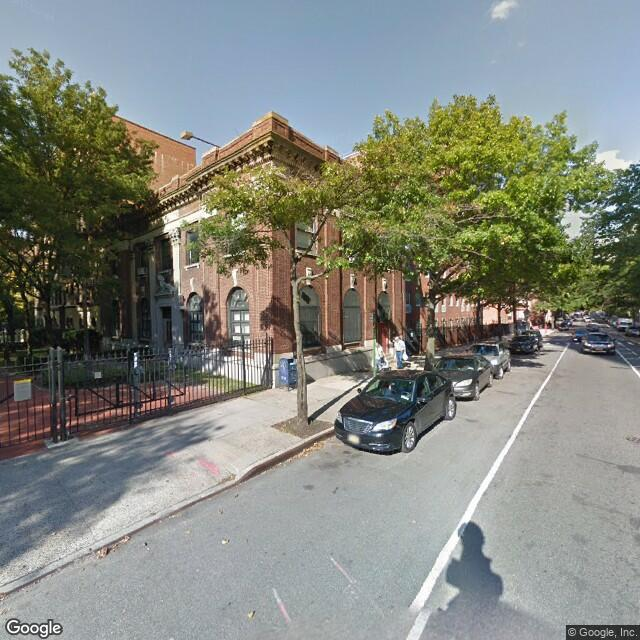litter: (90, 535, 129, 547)
